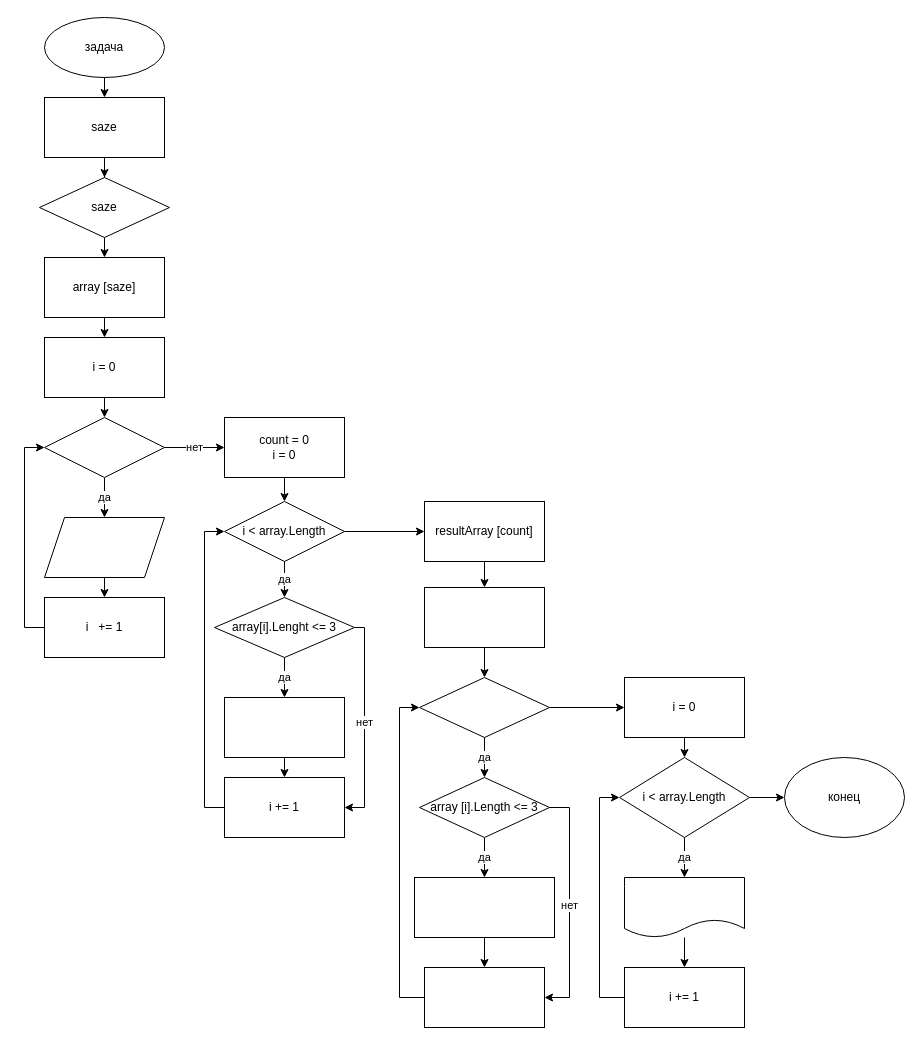
Some shapes in this 922 by 1045 pixel diagram are drawn without their labels. Here are the shapes that lost their labels. From the top down, the box of each, then its label:
(44, 416, 164, 478): i < saze
(44, 516, 164, 578): array [i]
(424, 586, 544, 648): i = 0 j = 0
(224, 696, 344, 758): count ++
(418, 676, 550, 738): i < arrey.Length
(414, 876, 554, 938): resultArray [i] = array [i] j ++
(624, 876, 744, 938): resultArray [i]
(424, 966, 544, 1028): i ++
